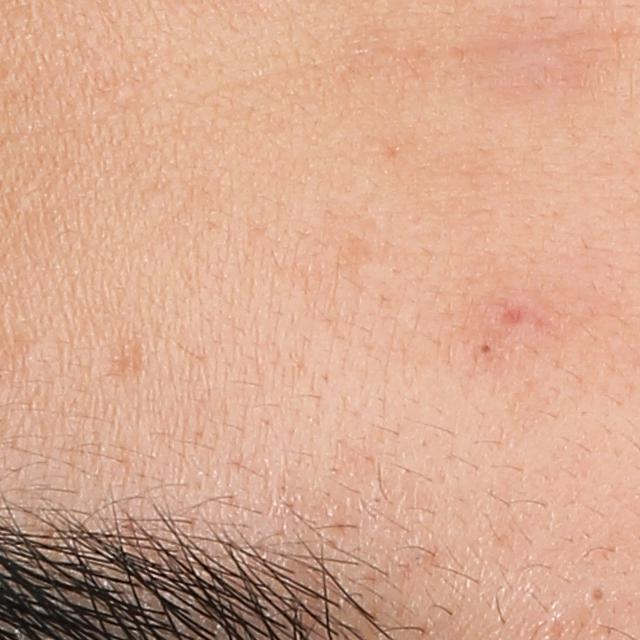atrophic_scar: (501, 304, 530, 326)
comedo: (580, 582, 609, 610), (478, 341, 495, 355)
